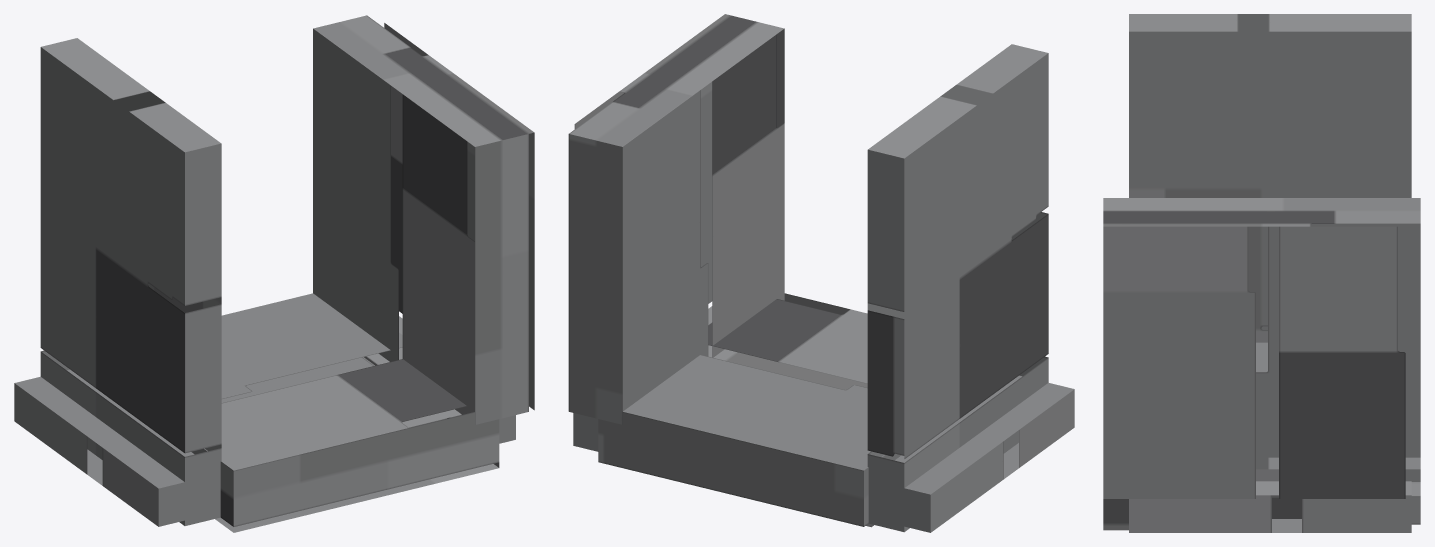
3 views of the same model, side by side, from view 1: azimuth 30°, elevation 25°; view 2: azimuth 150°, elevation 25°; view 3: azimuth 270°, elevation 25° (orthographic). The views are drawn at different scales.
Bounding box in the file's own units: 1.05 × 1.05 × 0.8098.
